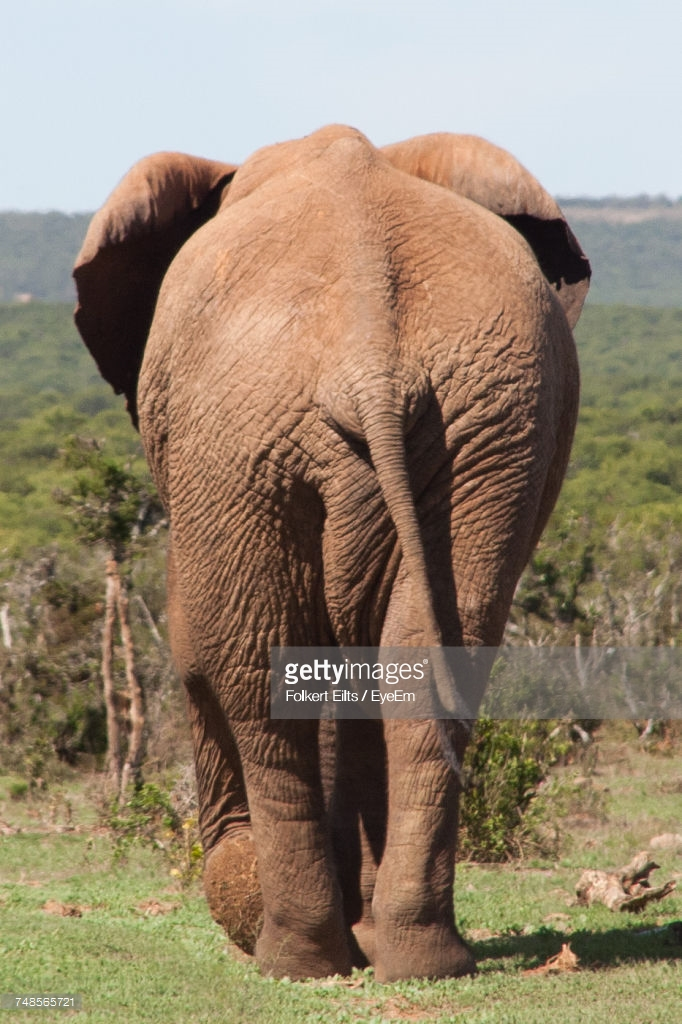elephant: (77, 117, 600, 983)
